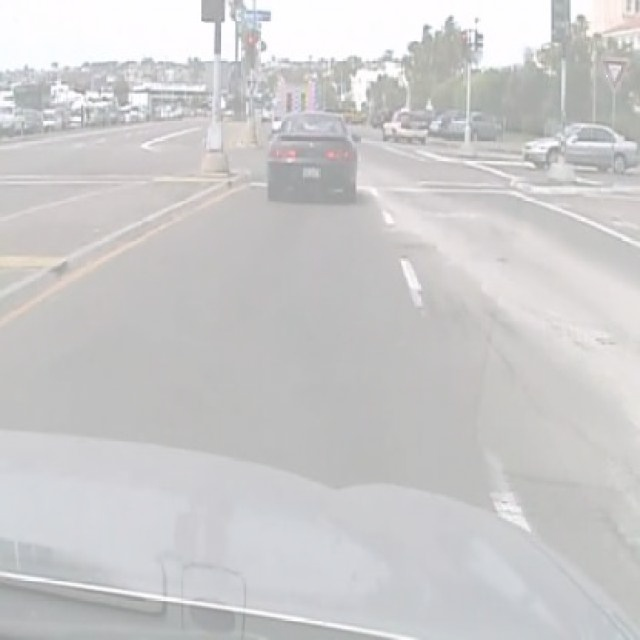yield: (600, 56, 630, 94)
